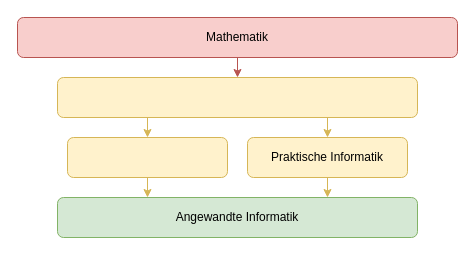
This 475x255 diagram has some shape labels left out. The box of each missing label's shape, as (x1, y1, x2, y2) in pixels:
Technische Informatik: (66, 136, 228, 178)
Theoretische Informatik: (56, 76, 418, 118)
